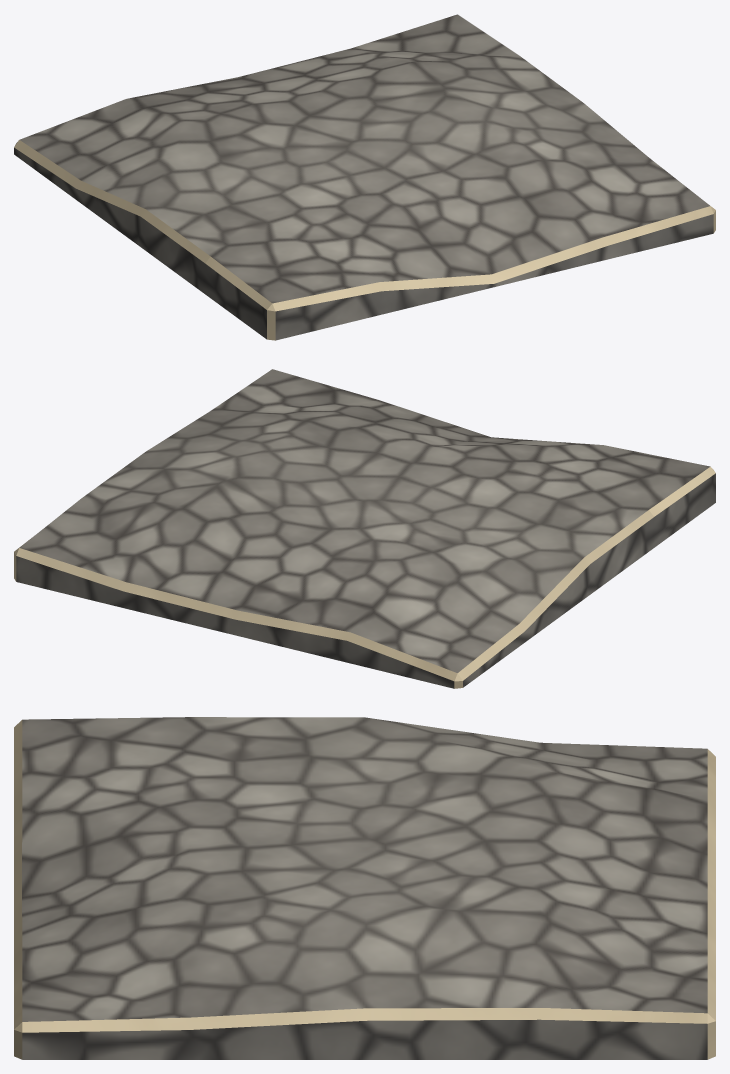
Rendered from Env_Path_Paved_1m.fbx.
3 renders of one model, top to bottom at view 1: azimuth 30°, elevation 25°; view 2: azimuth 150°, elevation 25°; view 3: azimuth 270°, elevation 25°, orthographic. The views are drawn at different scales.
Visible parts, largest first — view 1: Env_Path_Paved_1m; view 2: Env_Path_Paved_1m; view 3: Env_Path_Paved_1m.
Boxes of the visible parts, left/top/right/bottom form: Env_Path_Paved_1m: left=14, top=14, right=715, bottom=340; Env_Path_Paved_1m: left=14, top=369, right=715, bottom=688; Env_Path_Paved_1m: left=14, top=717, right=715, bottom=1059.
Size of the model in its own units: 100 by 100 by 11.85.
